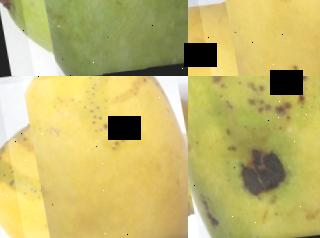PartiallyRipe: (188, 76, 320, 238)
Ripe: (0, 76, 188, 238), (193, 0, 320, 76)
Unripe: (0, 0, 188, 76)
